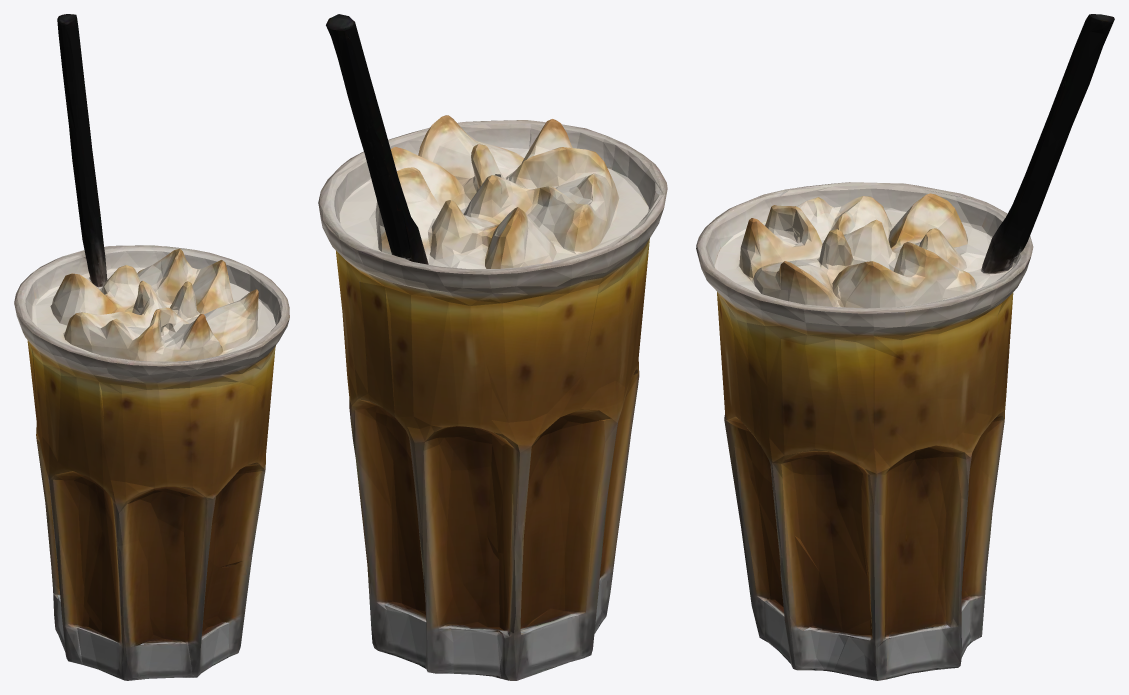
3 views of the same model, side by side, from view 1: azimuth 30°, elevation 25°; view 2: azimuth 150°, elevation 25°; view 3: azimuth 270°, elevation 25° (orthographic). The views are drawn at different scales.
Parts seen in each view (by area): view 1: geometry_0; view 2: geometry_0; view 3: geometry_0.
Boxes of the visible parts, left/top/right/bottom form: geometry_0: left=14, top=14, right=289, bottom=680; geometry_0: left=318, top=14, right=667, bottom=680; geometry_0: left=696, top=14, right=1114, bottom=680.
Size of the model in its own units: 0.4414 by 0.9969 by 0.5962.
1 material, 1 textured.
